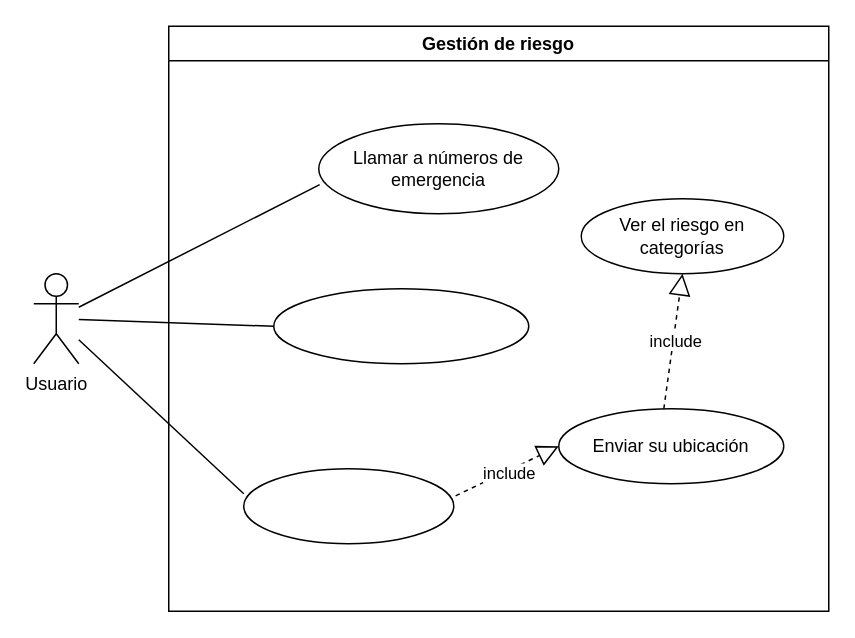
Some shapes in this 855 by 638 pixel diagram are drawn without their labels. The shapes that lost their labels are listed below. From the top down, each one's centre as x and y in pixels, then its label:
the point at 400,325: Recibir alertas de riesgo
the point at 348,505: Calcular el riesgo
